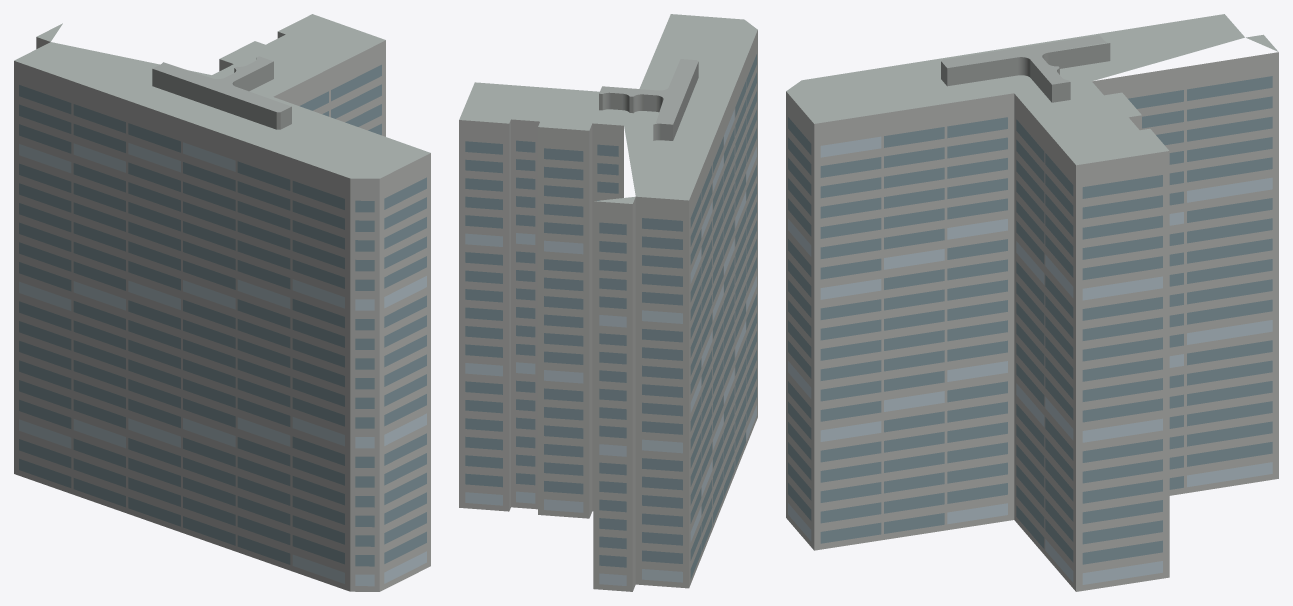
File: apt-a13994501.glb
The picture shows the model from 3 angles, left to right: view 1: azimuth 30°, elevation 25°; view 2: azimuth 150°, elevation 25°; view 3: azimuth 270°, elevation 25°; orthographic projection. The views are drawn at different scales.
Parts seen in each view (by area): view 1: apt-a13994501; view 2: apt-a13994501; view 3: apt-a13994501.
Boxes of the visible parts, <box> form: apt-a13994501: <box>14,14,430,591</box>; apt-a13994501: <box>459,14,757,591</box>; apt-a13994501: <box>786,14,1278,591</box>.
Bounding box in the file's own units: 43.03 × 59 × 59.23.
